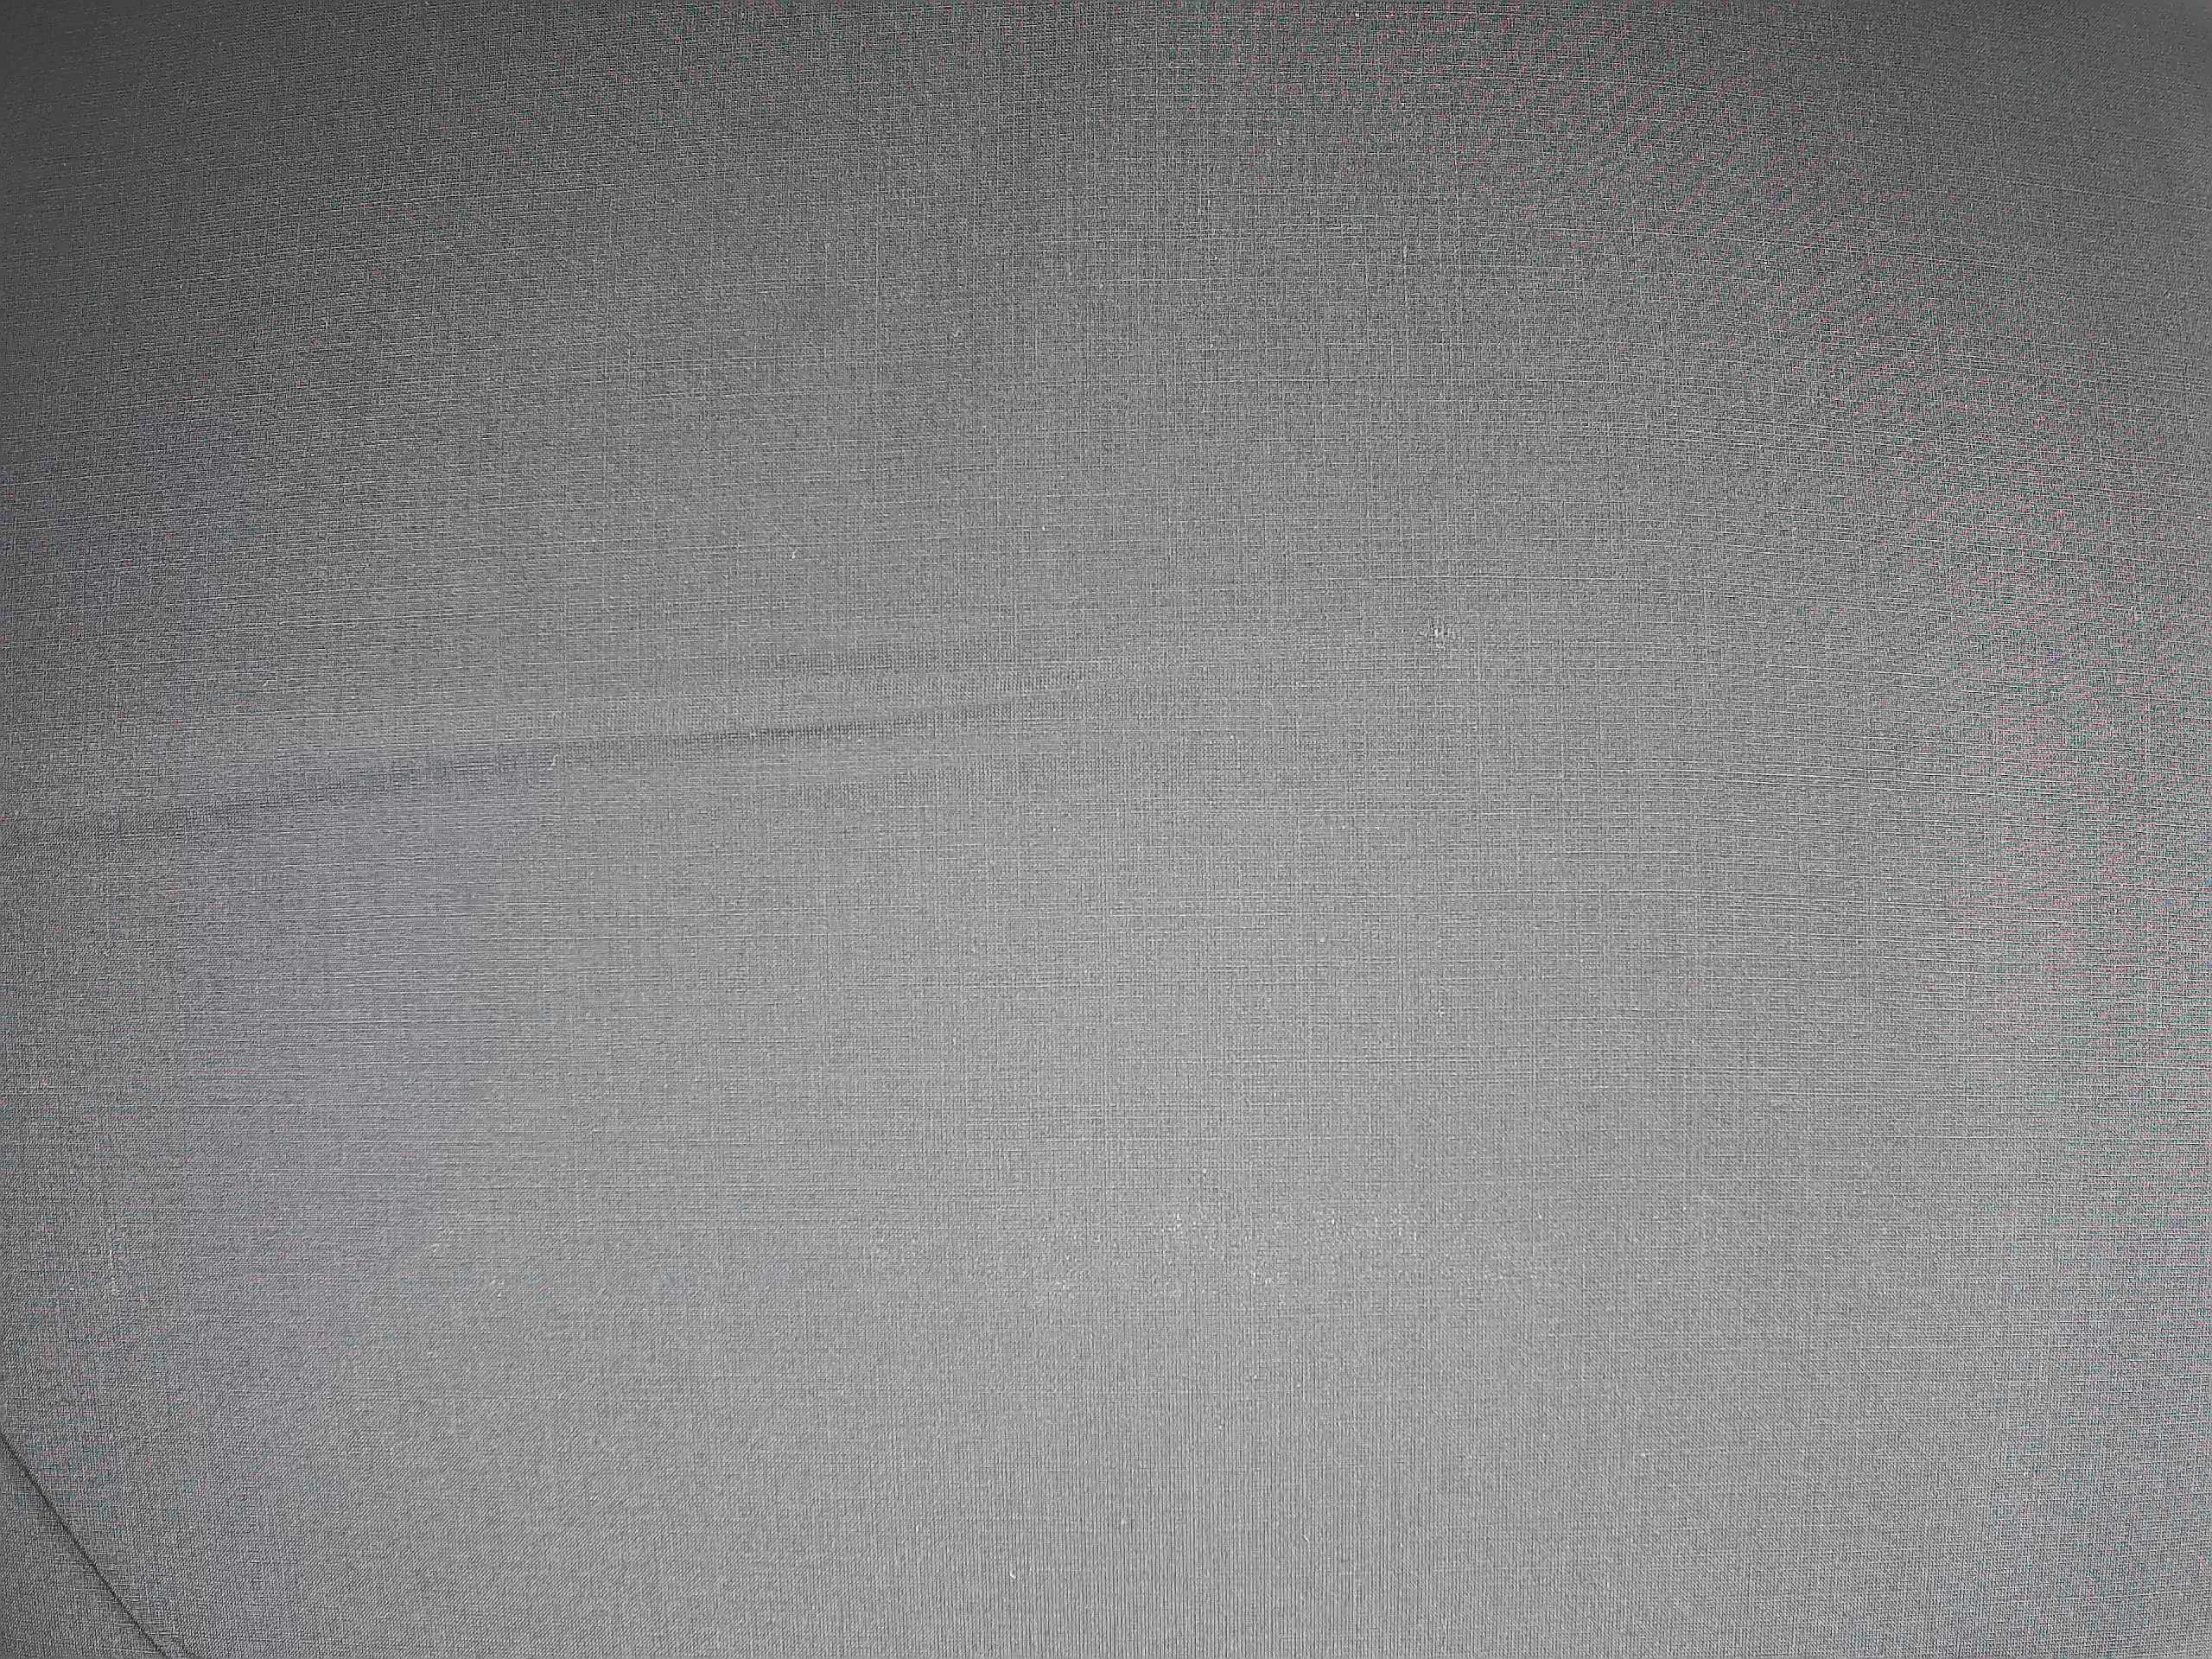brushed-hole: (1411, 605, 1470, 657)
